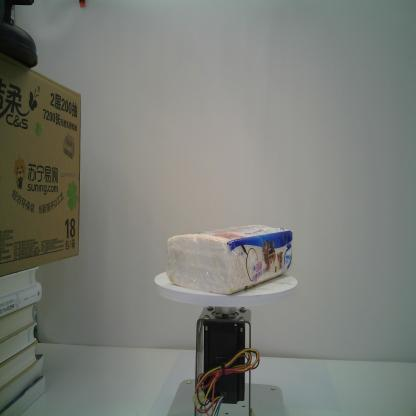Tissue: (166, 224, 293, 296)
